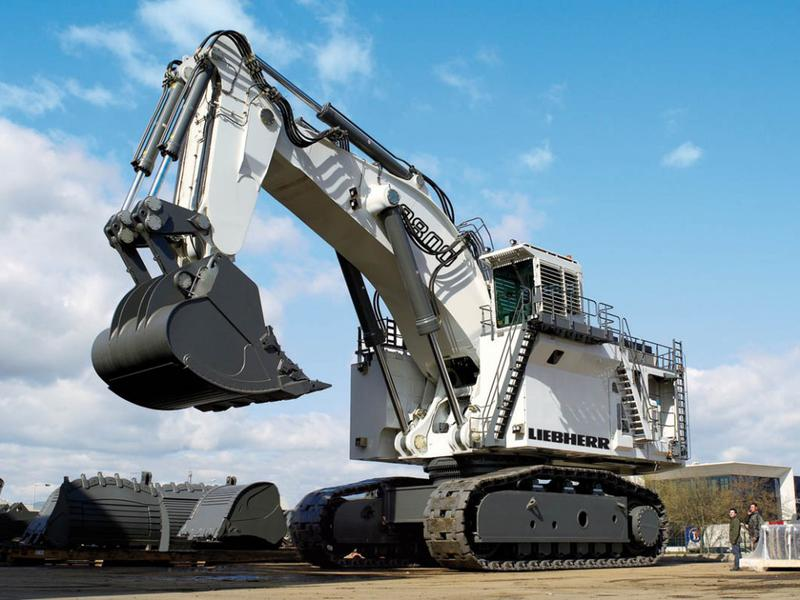shovel: (85, 24, 696, 577)
